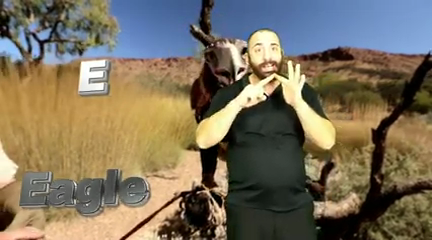E: (237, 59, 307, 113)
